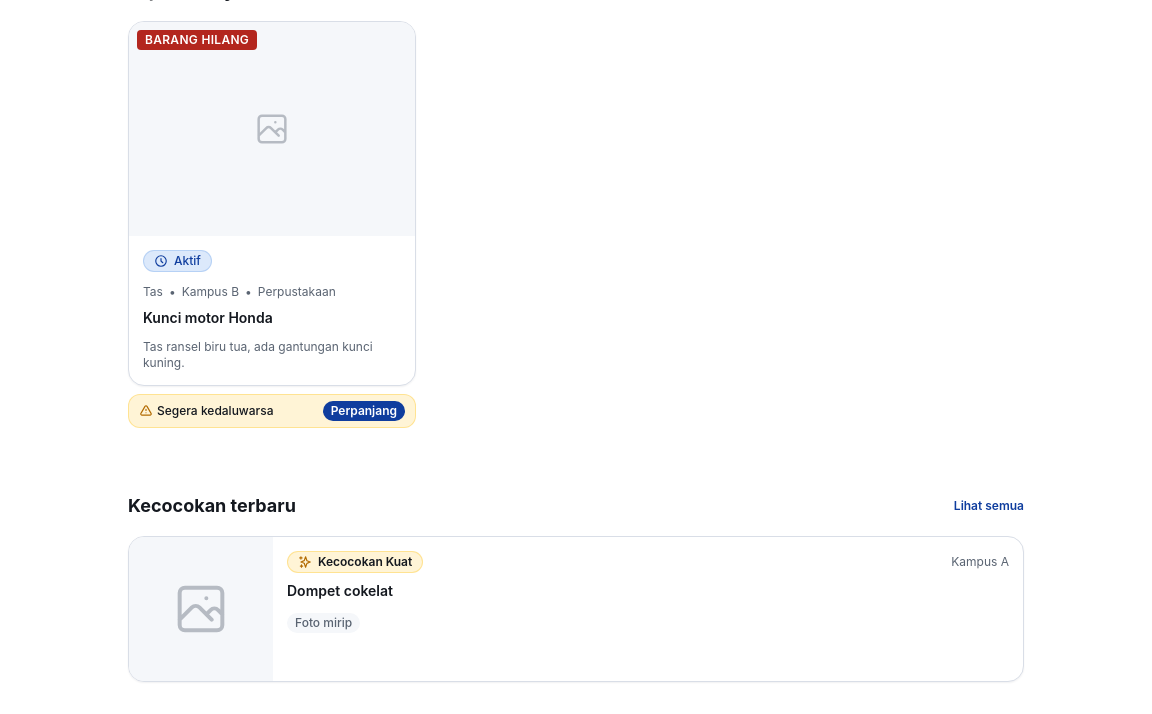
it: HomeView (SCR-003, FE-06) › surfaces renewal failure via alert message
The width and height of the screenshot is (1152, 714).
(page scrolled)
Expected: the heading "Kunci motor Honda" is shown, [143,309,273,326]
Click the button "Perpanjang": (364, 411) [323,401,405,421]
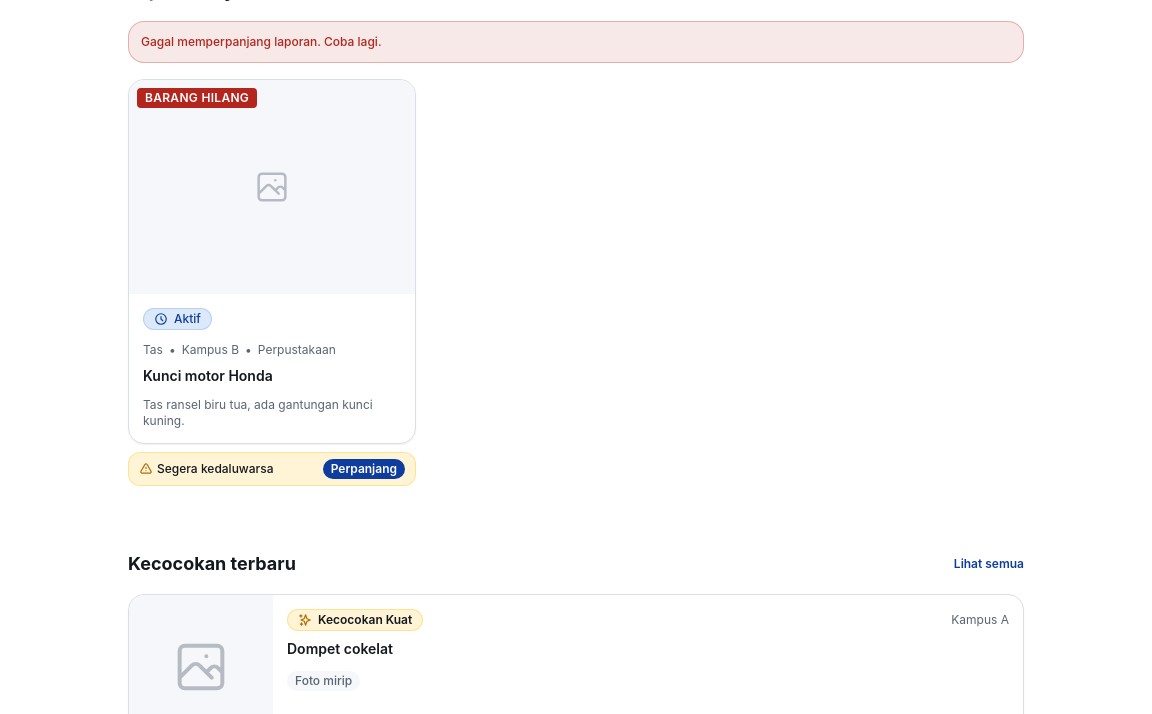
Result: the message "Gagal memperpanjang laporan. Coba lagi." is shown at [128,20,1024,62]
Result: the message shows "Gagal memperpanjang" at [141,34,382,48]
